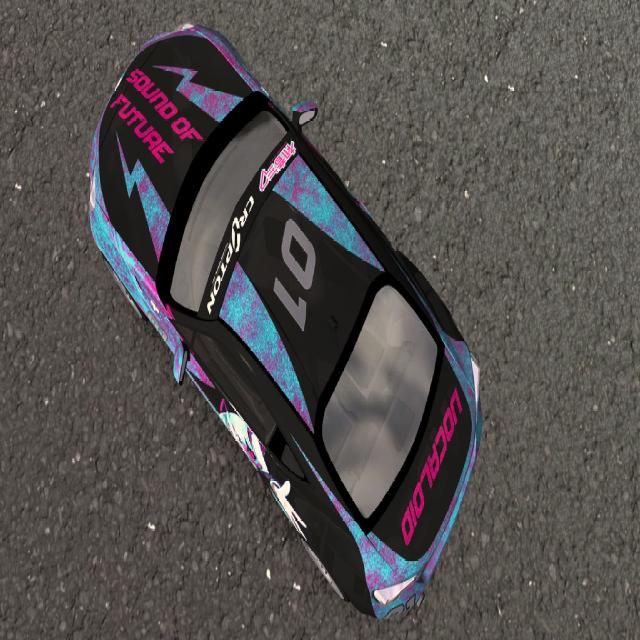car: (79, 2, 500, 616)
